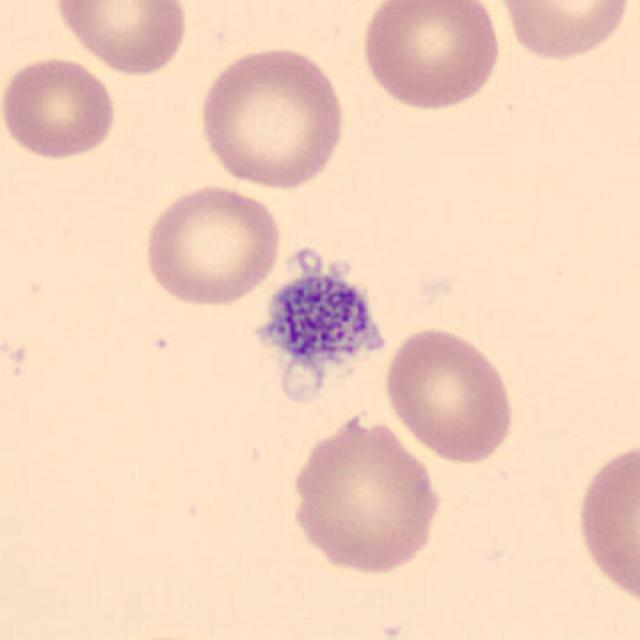Platelets: (240, 238, 398, 411)
RBC: (284, 411, 446, 578), (194, 41, 350, 192), (381, 323, 519, 467), (138, 182, 284, 310), (357, 0, 505, 113), (0, 53, 121, 162), (570, 434, 640, 612), (48, 0, 192, 78), (490, 0, 636, 63)
